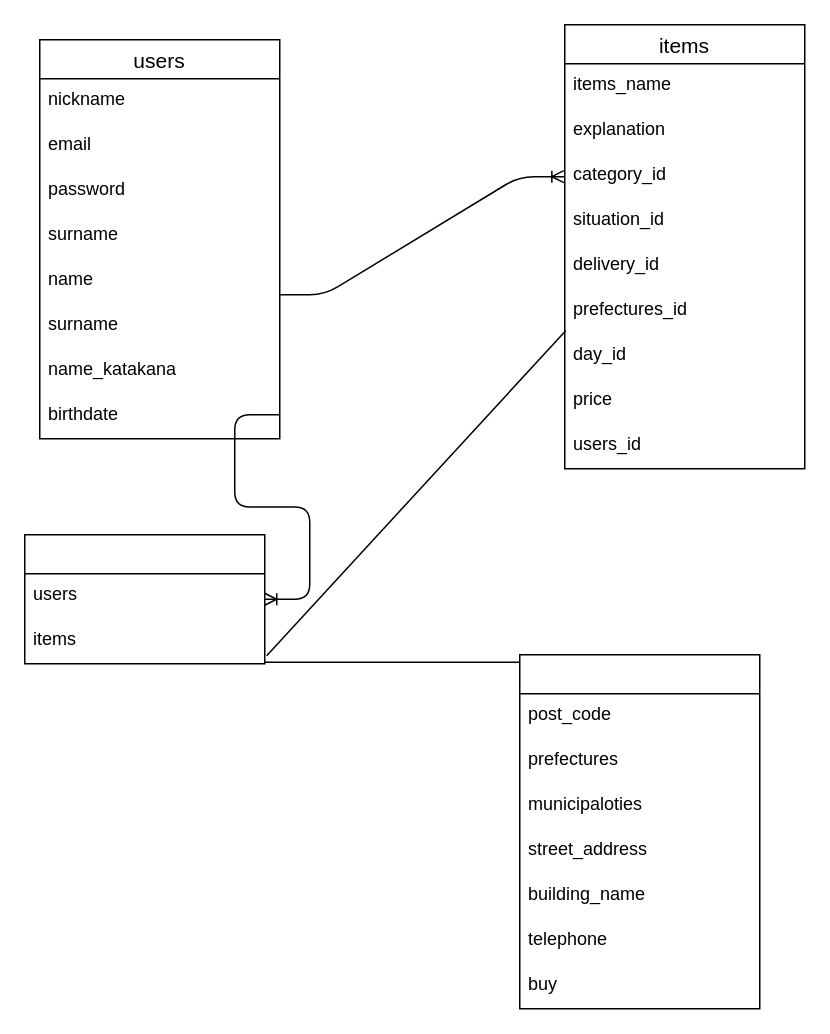
This 830x1034 diagram has some shape labels left out. The shapes that lost their labels are listed below. From the top down, each one's box as (x1, y1, x2, y2) in pixels, then its label:
(23, 533, 265, 664): buys
(518, 653, 760, 1009): addresses
